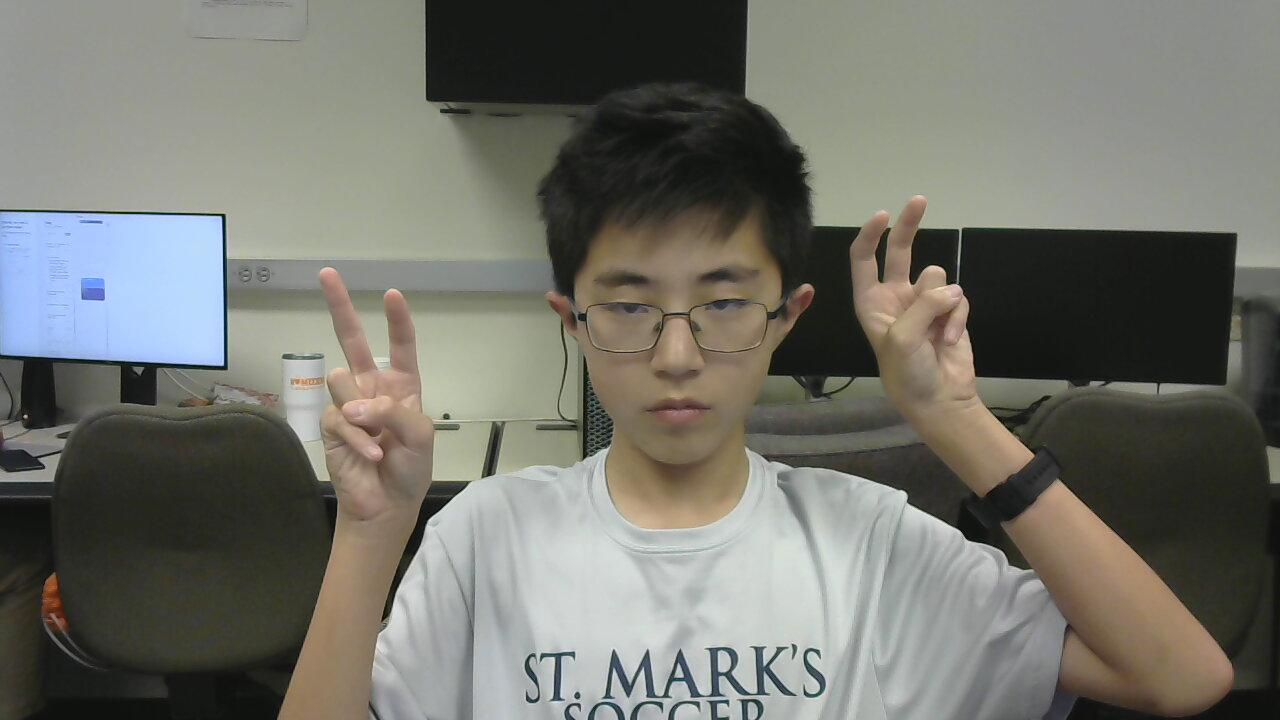peace: (291, 237, 446, 533), (843, 187, 1002, 423)
